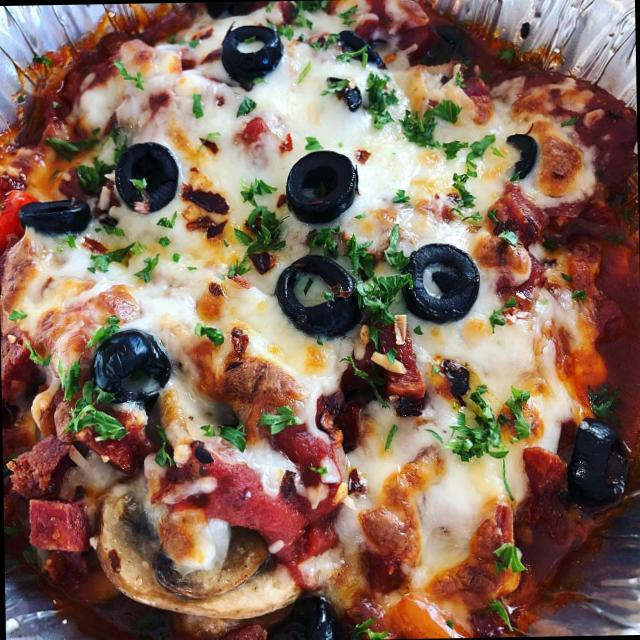black_olives: (398, 238, 482, 326), (562, 414, 636, 512), (276, 259, 361, 334), (281, 146, 357, 227), (95, 327, 168, 402), (114, 139, 178, 219), (20, 189, 93, 237), (498, 128, 540, 184), (343, 34, 381, 74)
mushrooms: (97, 472, 299, 632)
pizza: (0, 0, 640, 640)
